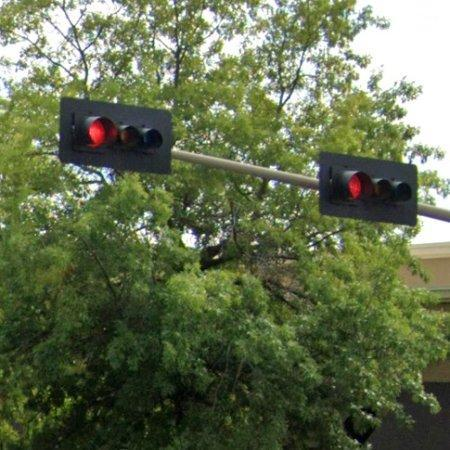traffic lights: (58, 96, 172, 175), (319, 150, 418, 225)
